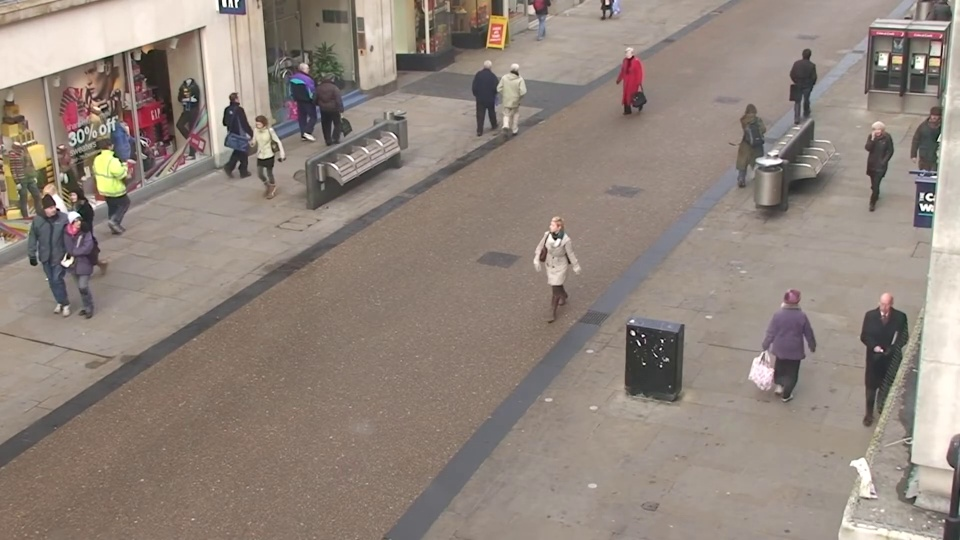pedestrian: (850, 293, 908, 438), (768, 278, 819, 416), (49, 210, 104, 328), (25, 198, 80, 314), (21, 178, 76, 288), (47, 186, 100, 297), (532, 212, 571, 335), (905, 109, 951, 208), (98, 131, 142, 228), (852, 119, 894, 217), (238, 117, 274, 211), (737, 94, 769, 184), (228, 85, 261, 170), (791, 44, 823, 122), (320, 68, 350, 149), (295, 58, 324, 136), (504, 54, 531, 133), (478, 54, 505, 132), (611, 46, 637, 123)
